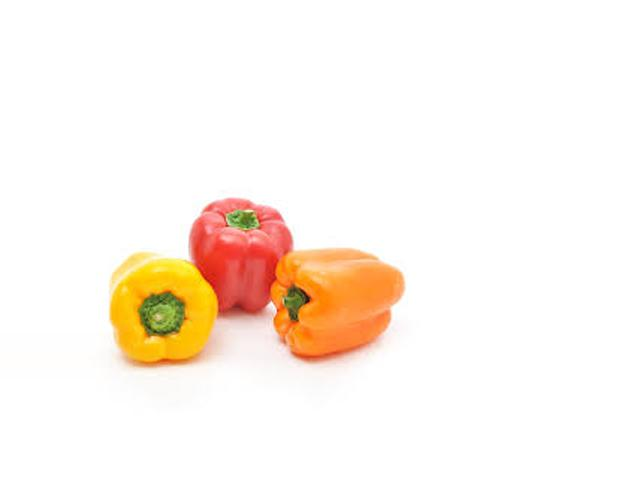bell_pepper: (100, 246, 230, 366)
